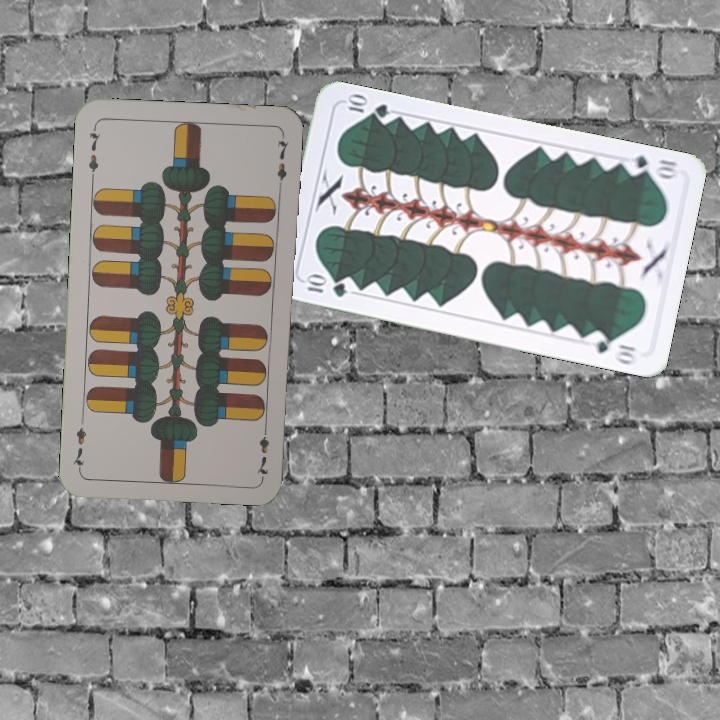E7: (84, 122, 103, 181), (253, 420, 271, 479)
G10: (620, 151, 682, 182), (301, 271, 350, 300)
